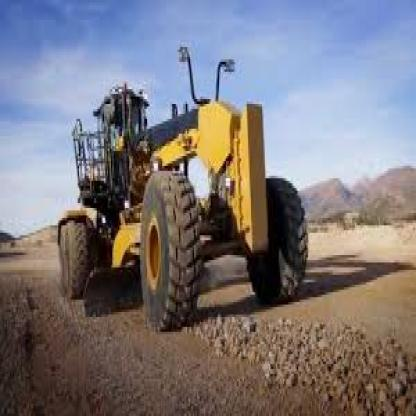bull_dozer/loader/grader: (51, 64, 326, 354)
